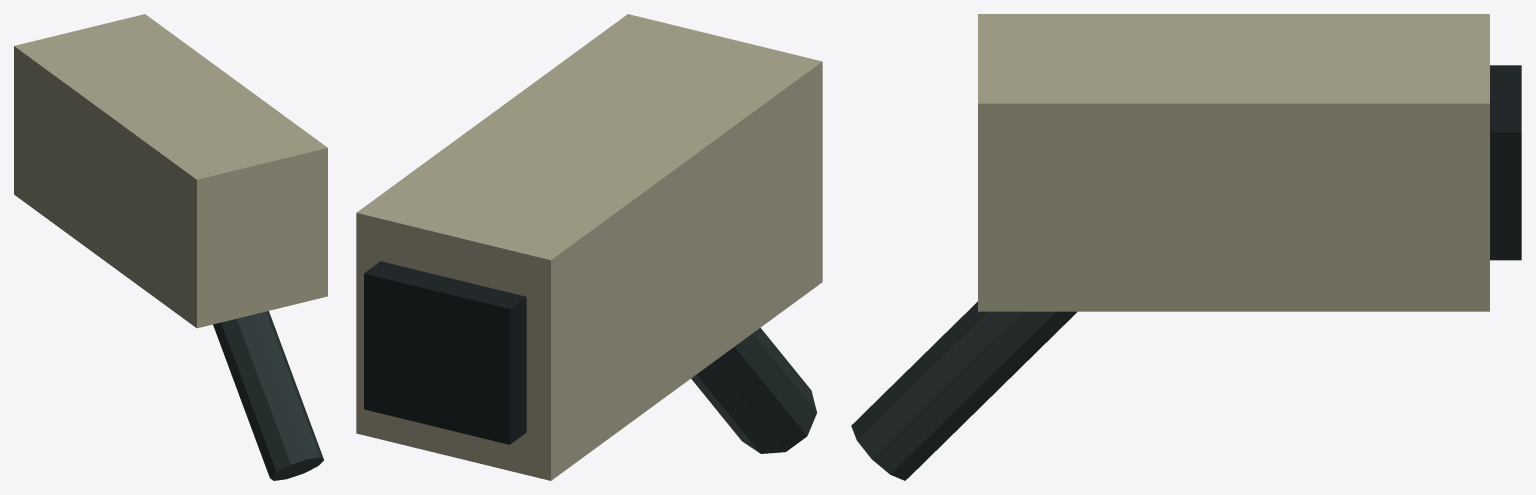
Rendered from cctv.glb.
The picture shows the model from 3 angles, left to right: view 1: azimuth 30°, elevation 25°; view 2: azimuth 150°, elevation 25°; view 3: azimuth 270°, elevation 25°; orthographic projection. The views are drawn at different scales.
Parts seen in each view (by area): view 1: cctv; view 2: cctv; view 3: cctv.
Part boxes in pixels (bbox=[...]): cctv: bbox=[14, 14, 327, 480]; cctv: bbox=[356, 14, 822, 480]; cctv: bbox=[851, 14, 1521, 480].
Bounding box in the file's own units: 0.12 × 0.2606 × 0.3799.
